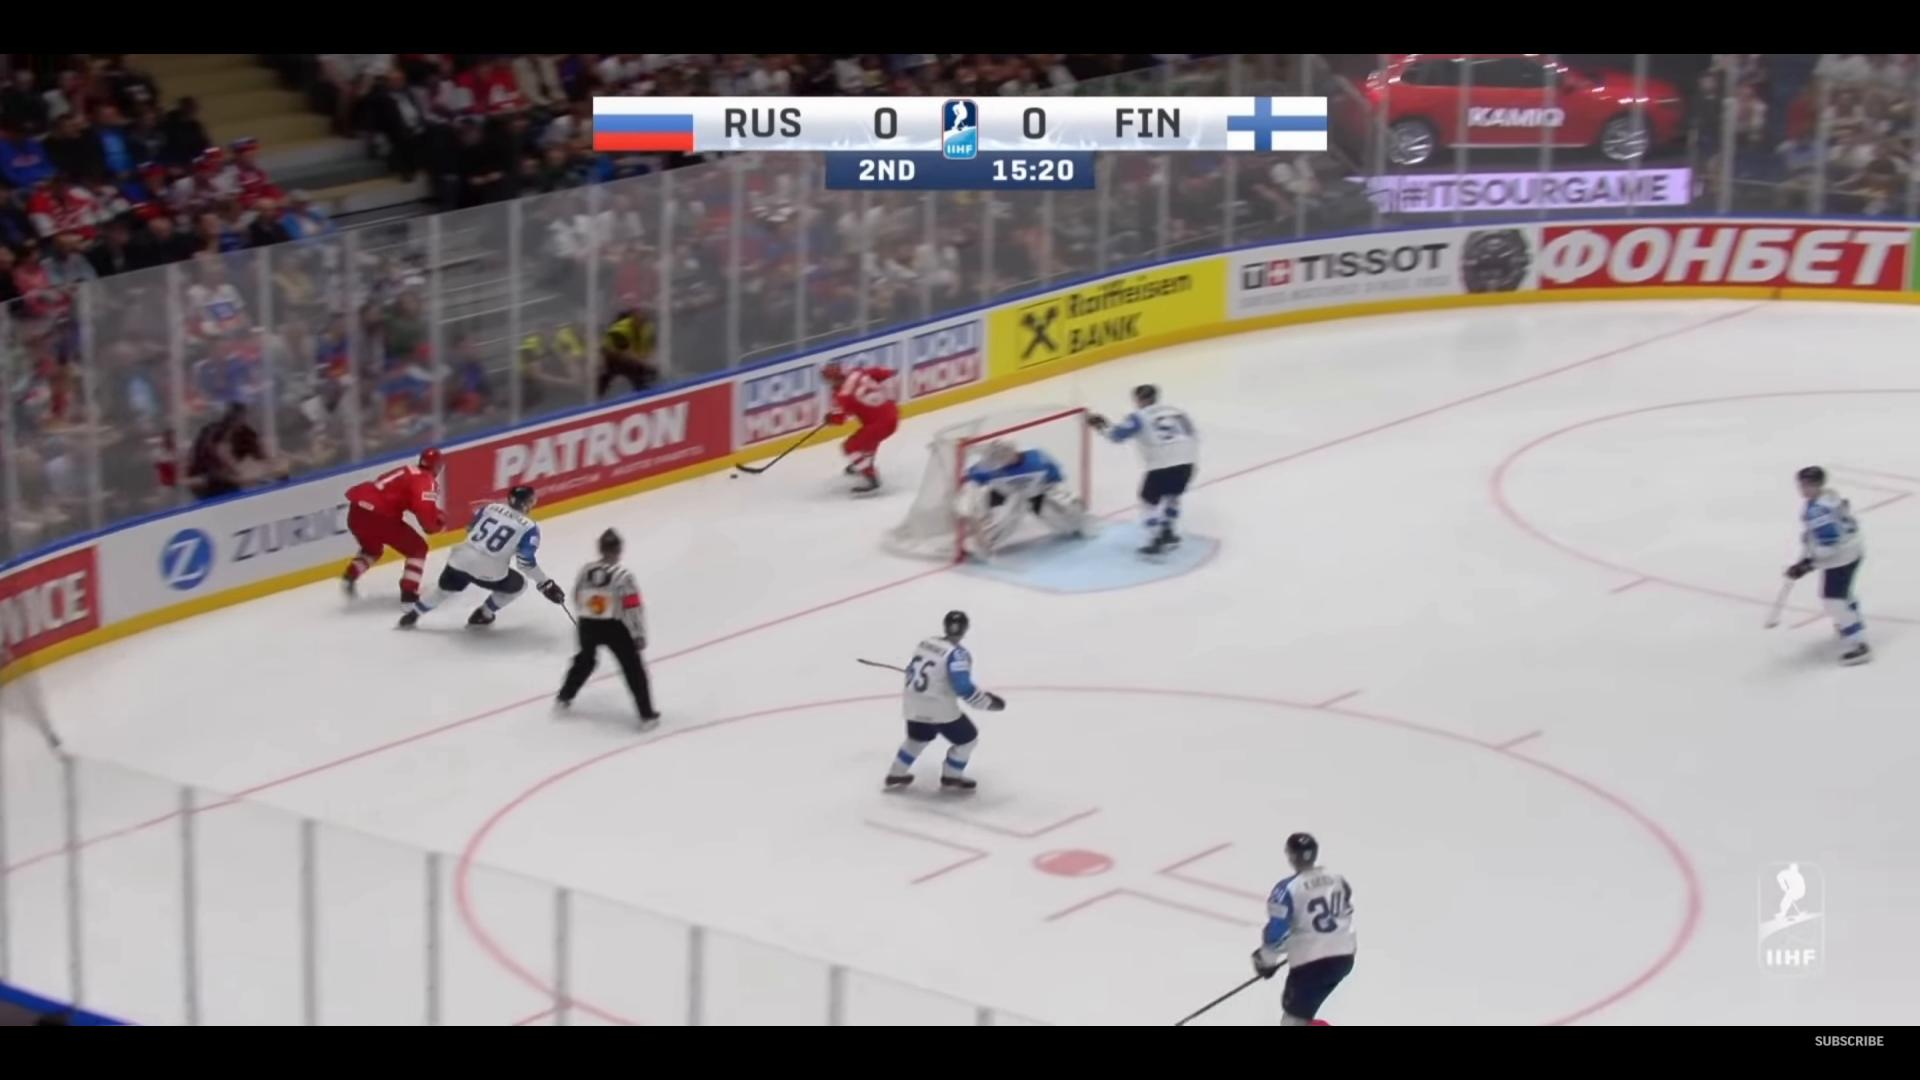puck: (729, 473, 738, 478)
